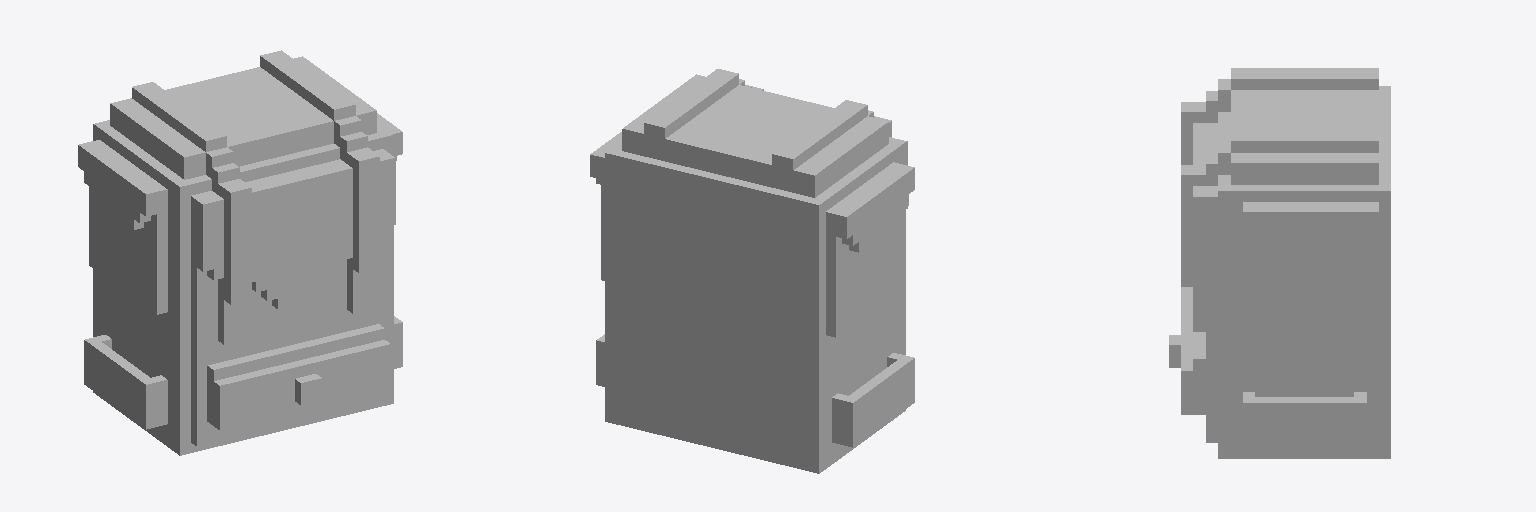
The model's file is backpack.obj.
The picture shows the model from 3 angles: view 1: azimuth 30°, elevation 25°; view 2: azimuth 150°, elevation 25°; view 3: azimuth 270°, elevation 25°; orthographic projection.
Parts seen in each view (by area): view 1: object 1; view 2: object 1; view 3: object 1.
Part boxes in pixels (x1,y1,x2,y2): object 1: (78, 50, 402, 455); object 1: (590, 69, 914, 473); object 1: (1169, 68, 1390, 458).
Bounding box in the file's own units: 2.4 × 2.7 × 1.8.